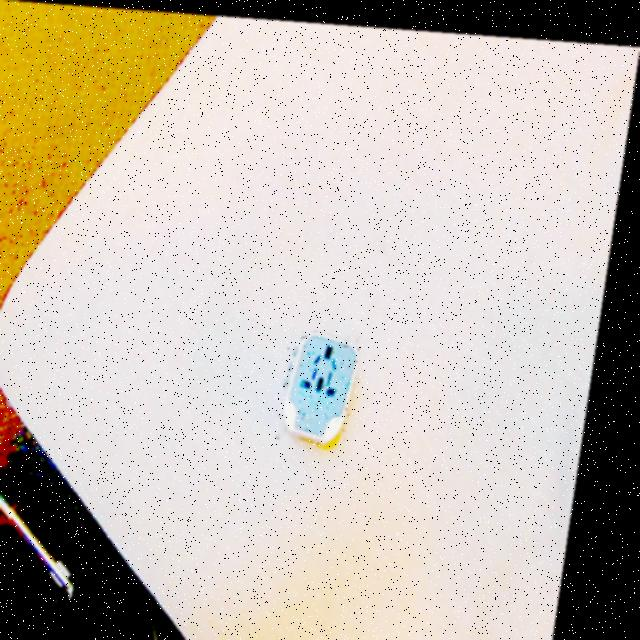adapter: (287, 324, 372, 440)
